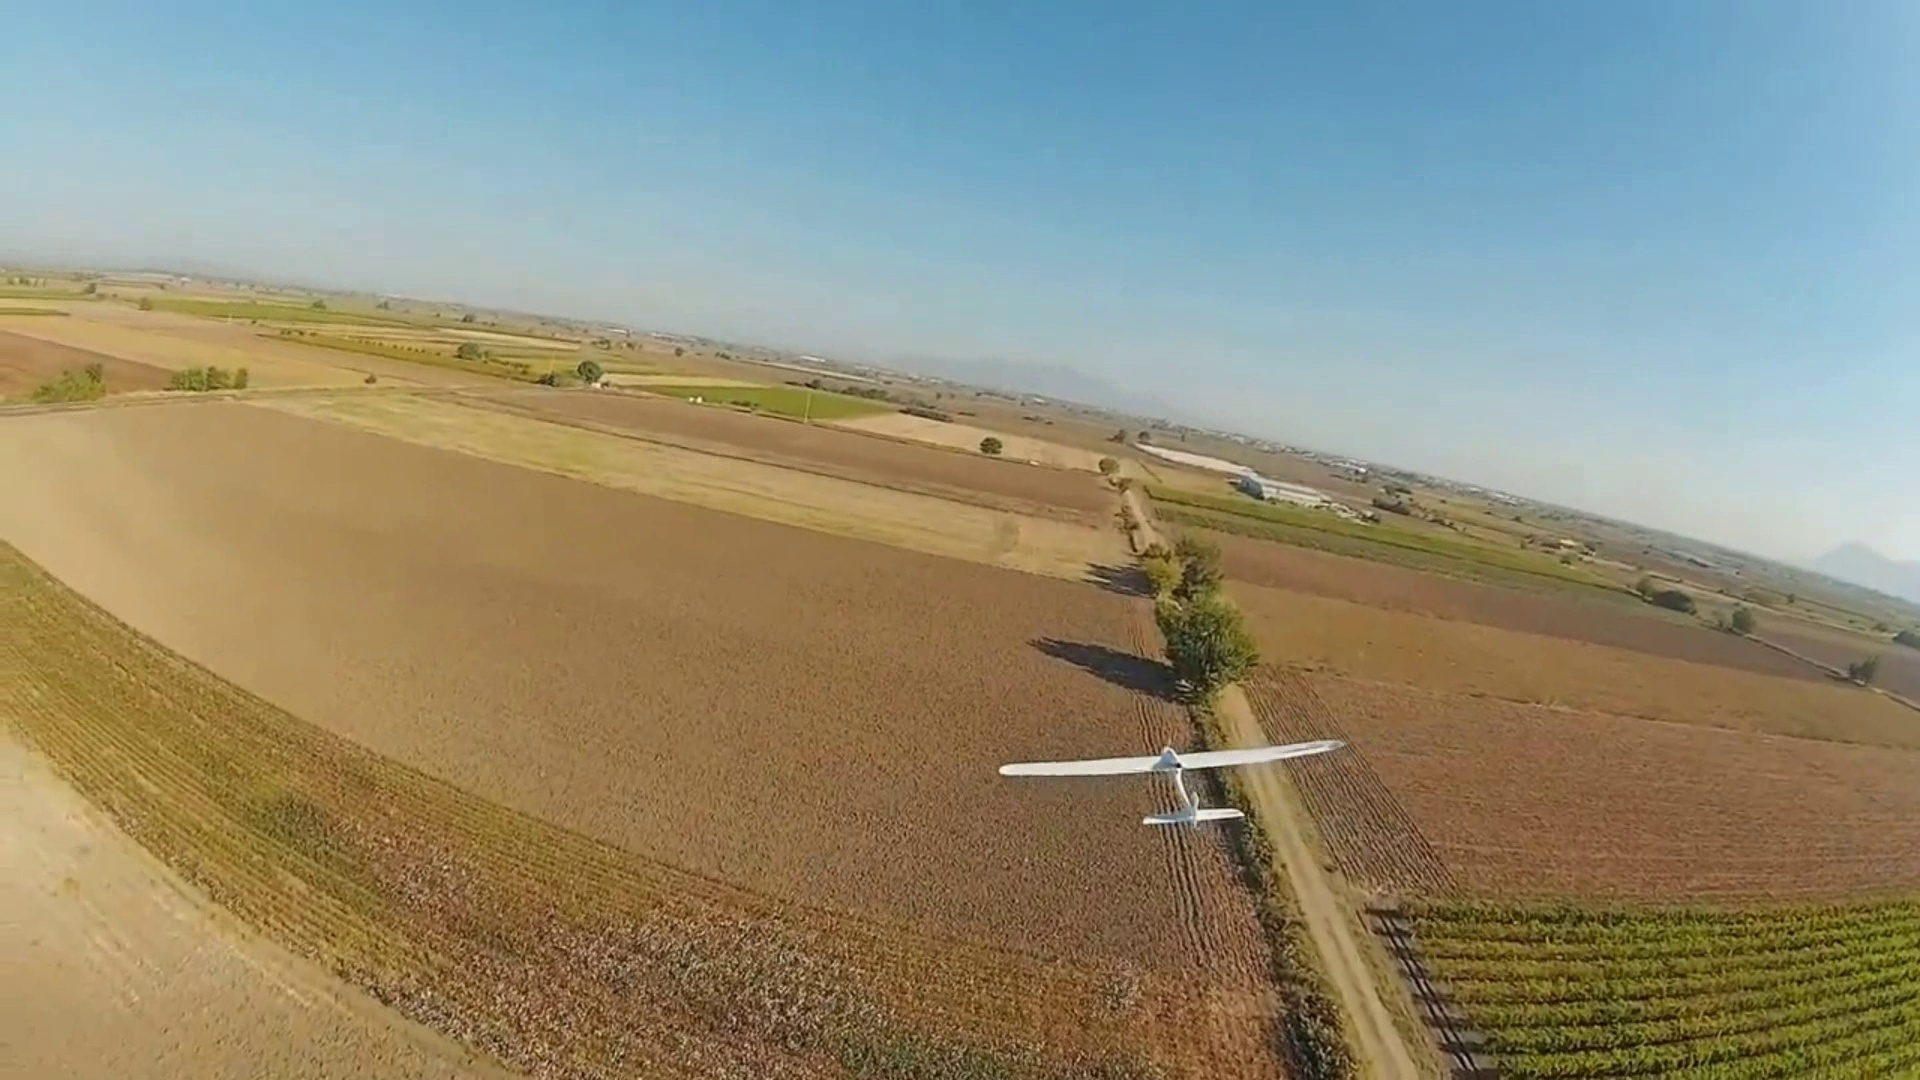airplane: (996, 738, 1345, 833)
